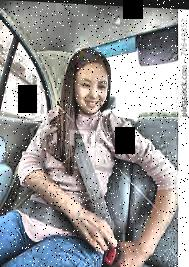seatbelt: (19, 109, 115, 242)
